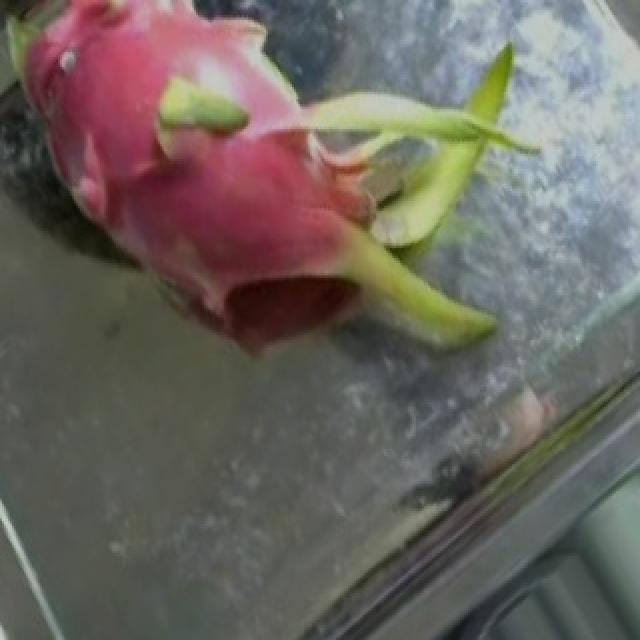fruit: (0, 0, 392, 392)
